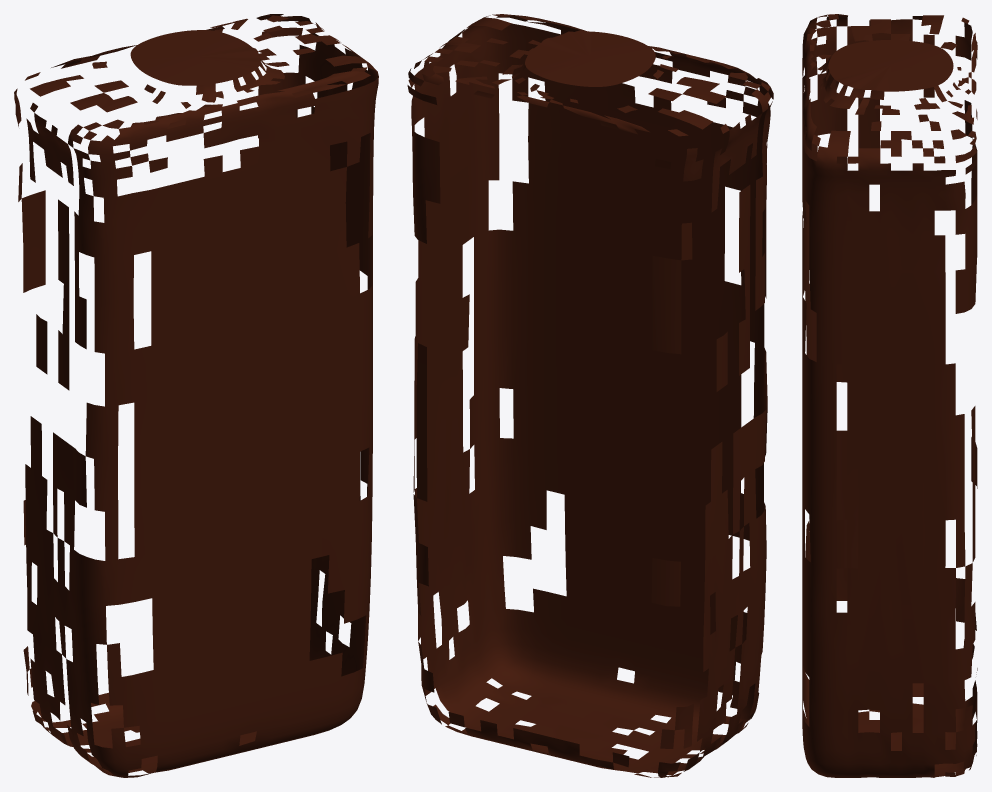
Rendered from BathroomFurnitures_M_1_Mat3d66_1341339_12_2128_001_0.obj.
3 views of the same model, side by side, from view 1: azimuth 30°, elevation 25°; view 2: azimuth 150°, elevation 25°; view 3: azimuth 270°, elevation 25° (orthographic).
Visible parts, largest first — view 1: BathroomFurnitures_M_1_Mat3d66_1341339_12_2128.001_0; view 2: BathroomFurnitures_M_1_Mat3d66_1341339_12_2128.001_0; view 3: BathroomFurnitures_M_1_Mat3d66_1341339_12_2128.001_0.
Part boxes in pixels (x1=…): BathroomFurnitures_M_1_Mat3d66_1341339_12_2128.001_0: x1=14, y1=14, x2=378, y2=777; BathroomFurnitures_M_1_Mat3d66_1341339_12_2128.001_0: x1=407, y1=14, x2=773, y2=777; BathroomFurnitures_M_1_Mat3d66_1341339_12_2128.001_0: x1=802, y1=14, x2=977, y2=777.
Bounding box in the file's own units: 0.0508 × 0.1087 × 0.0261.
